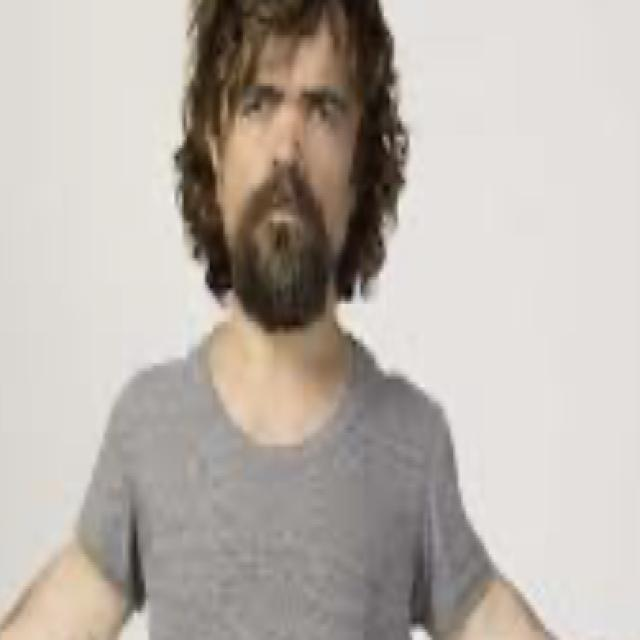angry: (164, 19, 422, 362)
